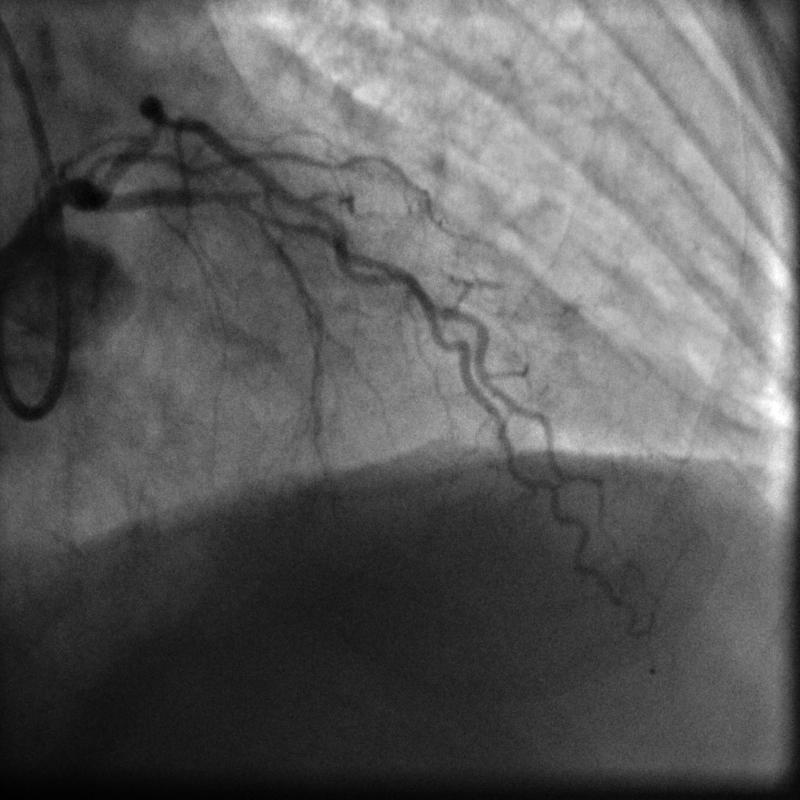Stenosis: (224, 184, 288, 235)
